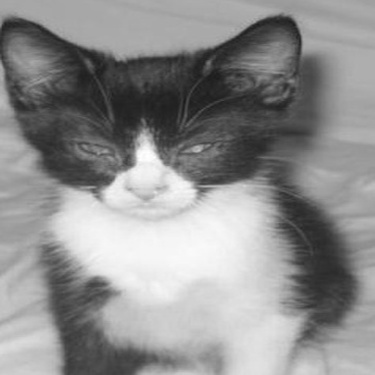cat: (3, 14, 356, 372)
